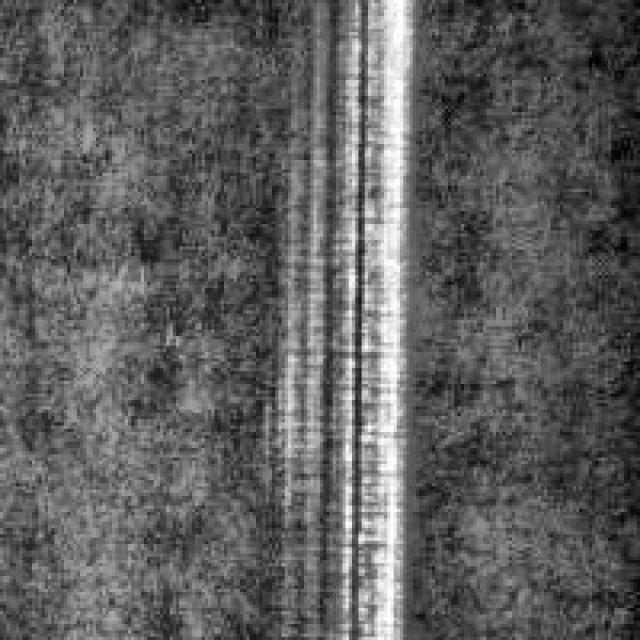Inclusion: (307, 0, 413, 634)
